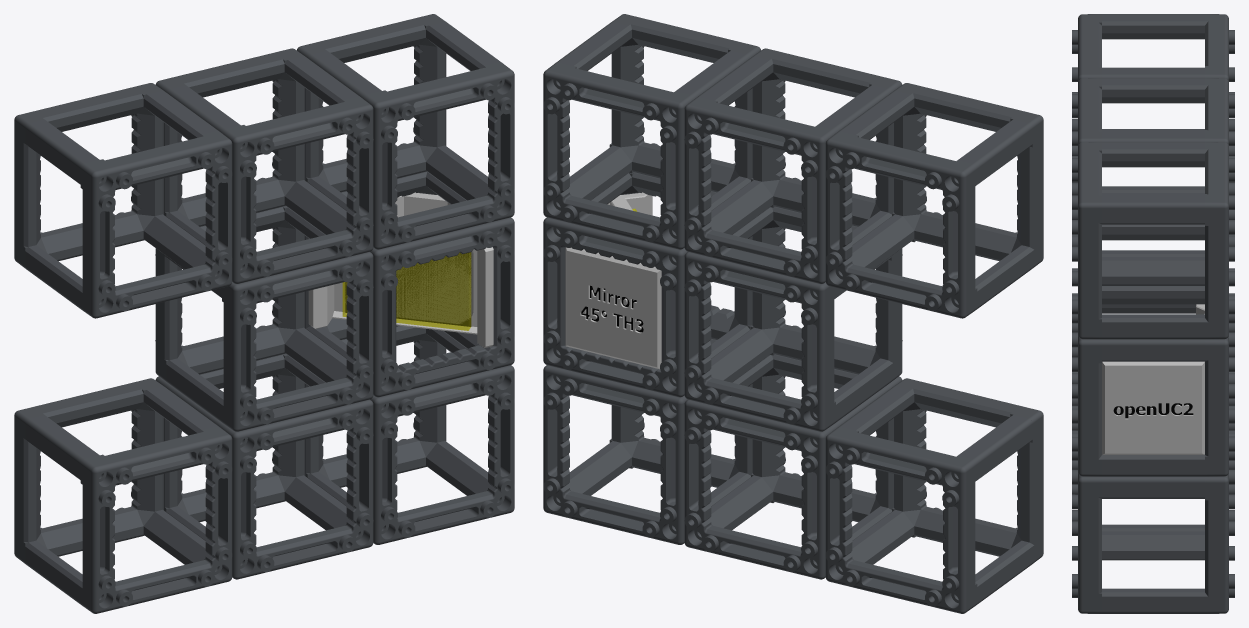
File: ASS_-_1001_-_BRILAY001.glb
The picture shows the model from 3 angles, left to right: view 1: azimuth 30°, elevation 25°; view 2: azimuth 150°, elevation 25°; view 3: azimuth 270°, elevation 25°; orthographic projection. The views are drawn at different scales.
Parts seen in each view (by area): view 1: PRT - 1003 - CUBHLF111 - V04:2 (×8), PRT - 1003 - CUBHLF111 - V04:1 (×8), BUY - Mirror - 40x30x3:1, PRT - 2030 - INSMIR45TH3:1, BUY - Adhesive pad - 41x29x1:1; view 2: PRT - 1003 - CUBHLF111 - V04:1 (×8), PRT - 1003 - CUBHLF111 - V04:2 (×8), PRT - 2030 - INSMIR45TH3:1; view 3: PRT - 1003 - CUBHLF111 - V04:1 (×8), PRT - 1003 - CUBHLF111 - V04:2 (×7), PRT - 2030 - INSMIR45TH3:1.
Boxes of the visible parts, x1=… form: PRT - 1003 - CUBHLF111 - V04:2 (×8): x1=25, y1=21, x2=514, y2=613; PRT - 1003 - CUBHLF111 - V04:1 (×8): x1=14, y1=14, x2=499, y2=569; BUY - Mirror - 40x30x3:1: x1=342, y1=252, x2=471, y2=330; PRT - 2030 - INSMIR45TH3:1: x1=308, y1=192, x2=493, y2=347; BUY - Adhesive pad - 41x29x1:1: x1=344, y1=250, x2=473, y2=323; PRT - 1003 - CUBHLF111 - V04:1 (×8): x1=543, y1=50, x2=1032, y2=613; PRT - 1003 - CUBHLF111 - V04:2 (×8): x1=556, y1=14, x2=1043, y2=604; PRT - 2030 - INSMIR45TH3:1: x1=565, y1=192, x2=661, y2=369; PRT - 1003 - CUBHLF111 - V04:1 (×8): x1=1102, y1=14, x2=1234, y2=613; PRT - 1003 - CUBHLF111 - V04:2 (×7): x1=1072, y1=14, x2=1204, y2=613; PRT - 2030 - INSMIR45TH3:1: x1=1102, y1=304, x2=1204, y2=454.
Size of the model in its own units: 150 by 150 by 53.8.
